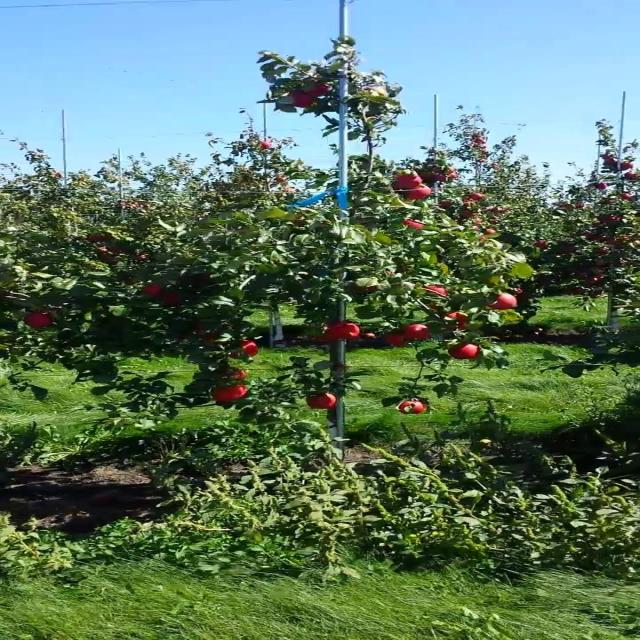apple: (326, 324, 363, 340), (212, 388, 249, 404), (404, 324, 434, 340), (454, 344, 484, 360), (490, 296, 519, 312), (234, 344, 261, 360), (312, 396, 340, 411), (291, 92, 315, 108), (397, 176, 421, 190), (28, 316, 53, 328), (141, 284, 164, 297), (404, 404, 427, 416), (412, 188, 434, 200), (312, 84, 332, 96), (451, 316, 469, 328), (390, 336, 407, 348), (404, 220, 427, 228), (163, 296, 183, 305), (426, 288, 448, 296), (234, 372, 249, 382), (362, 88, 382, 95), (319, 336, 334, 344), (540, 244, 548, 248)
